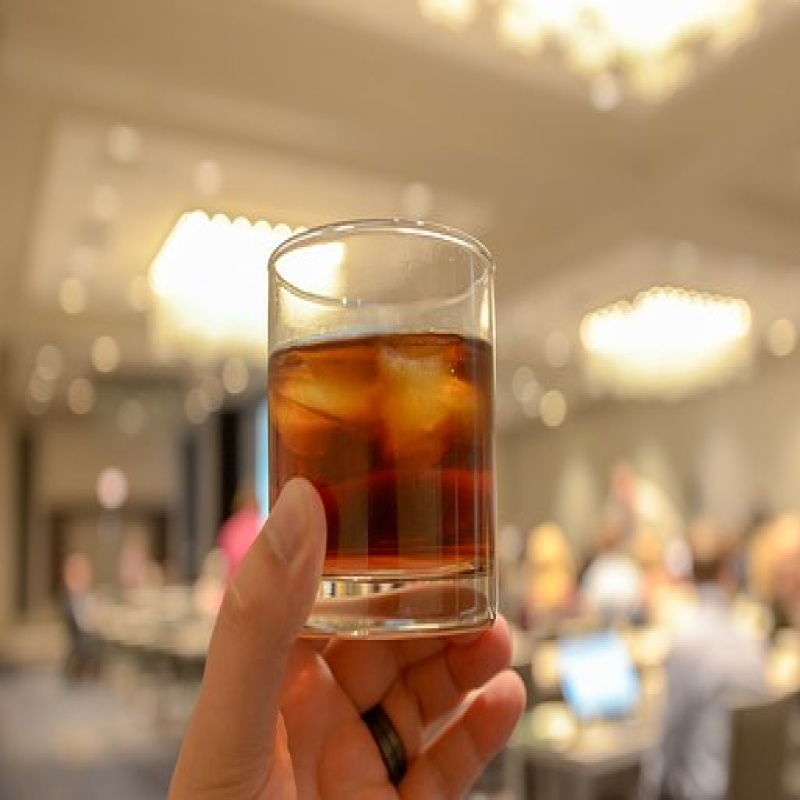whiskey: (271, 220, 499, 631)
